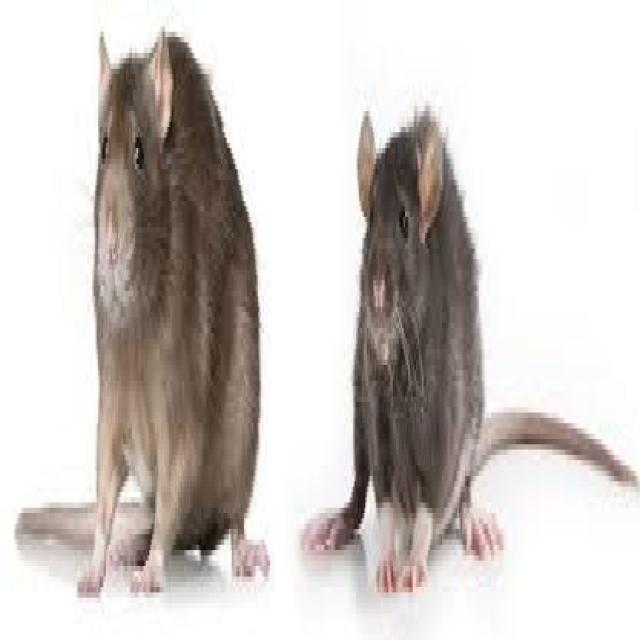rat: (298, 100, 638, 592), (14, 21, 270, 592)
